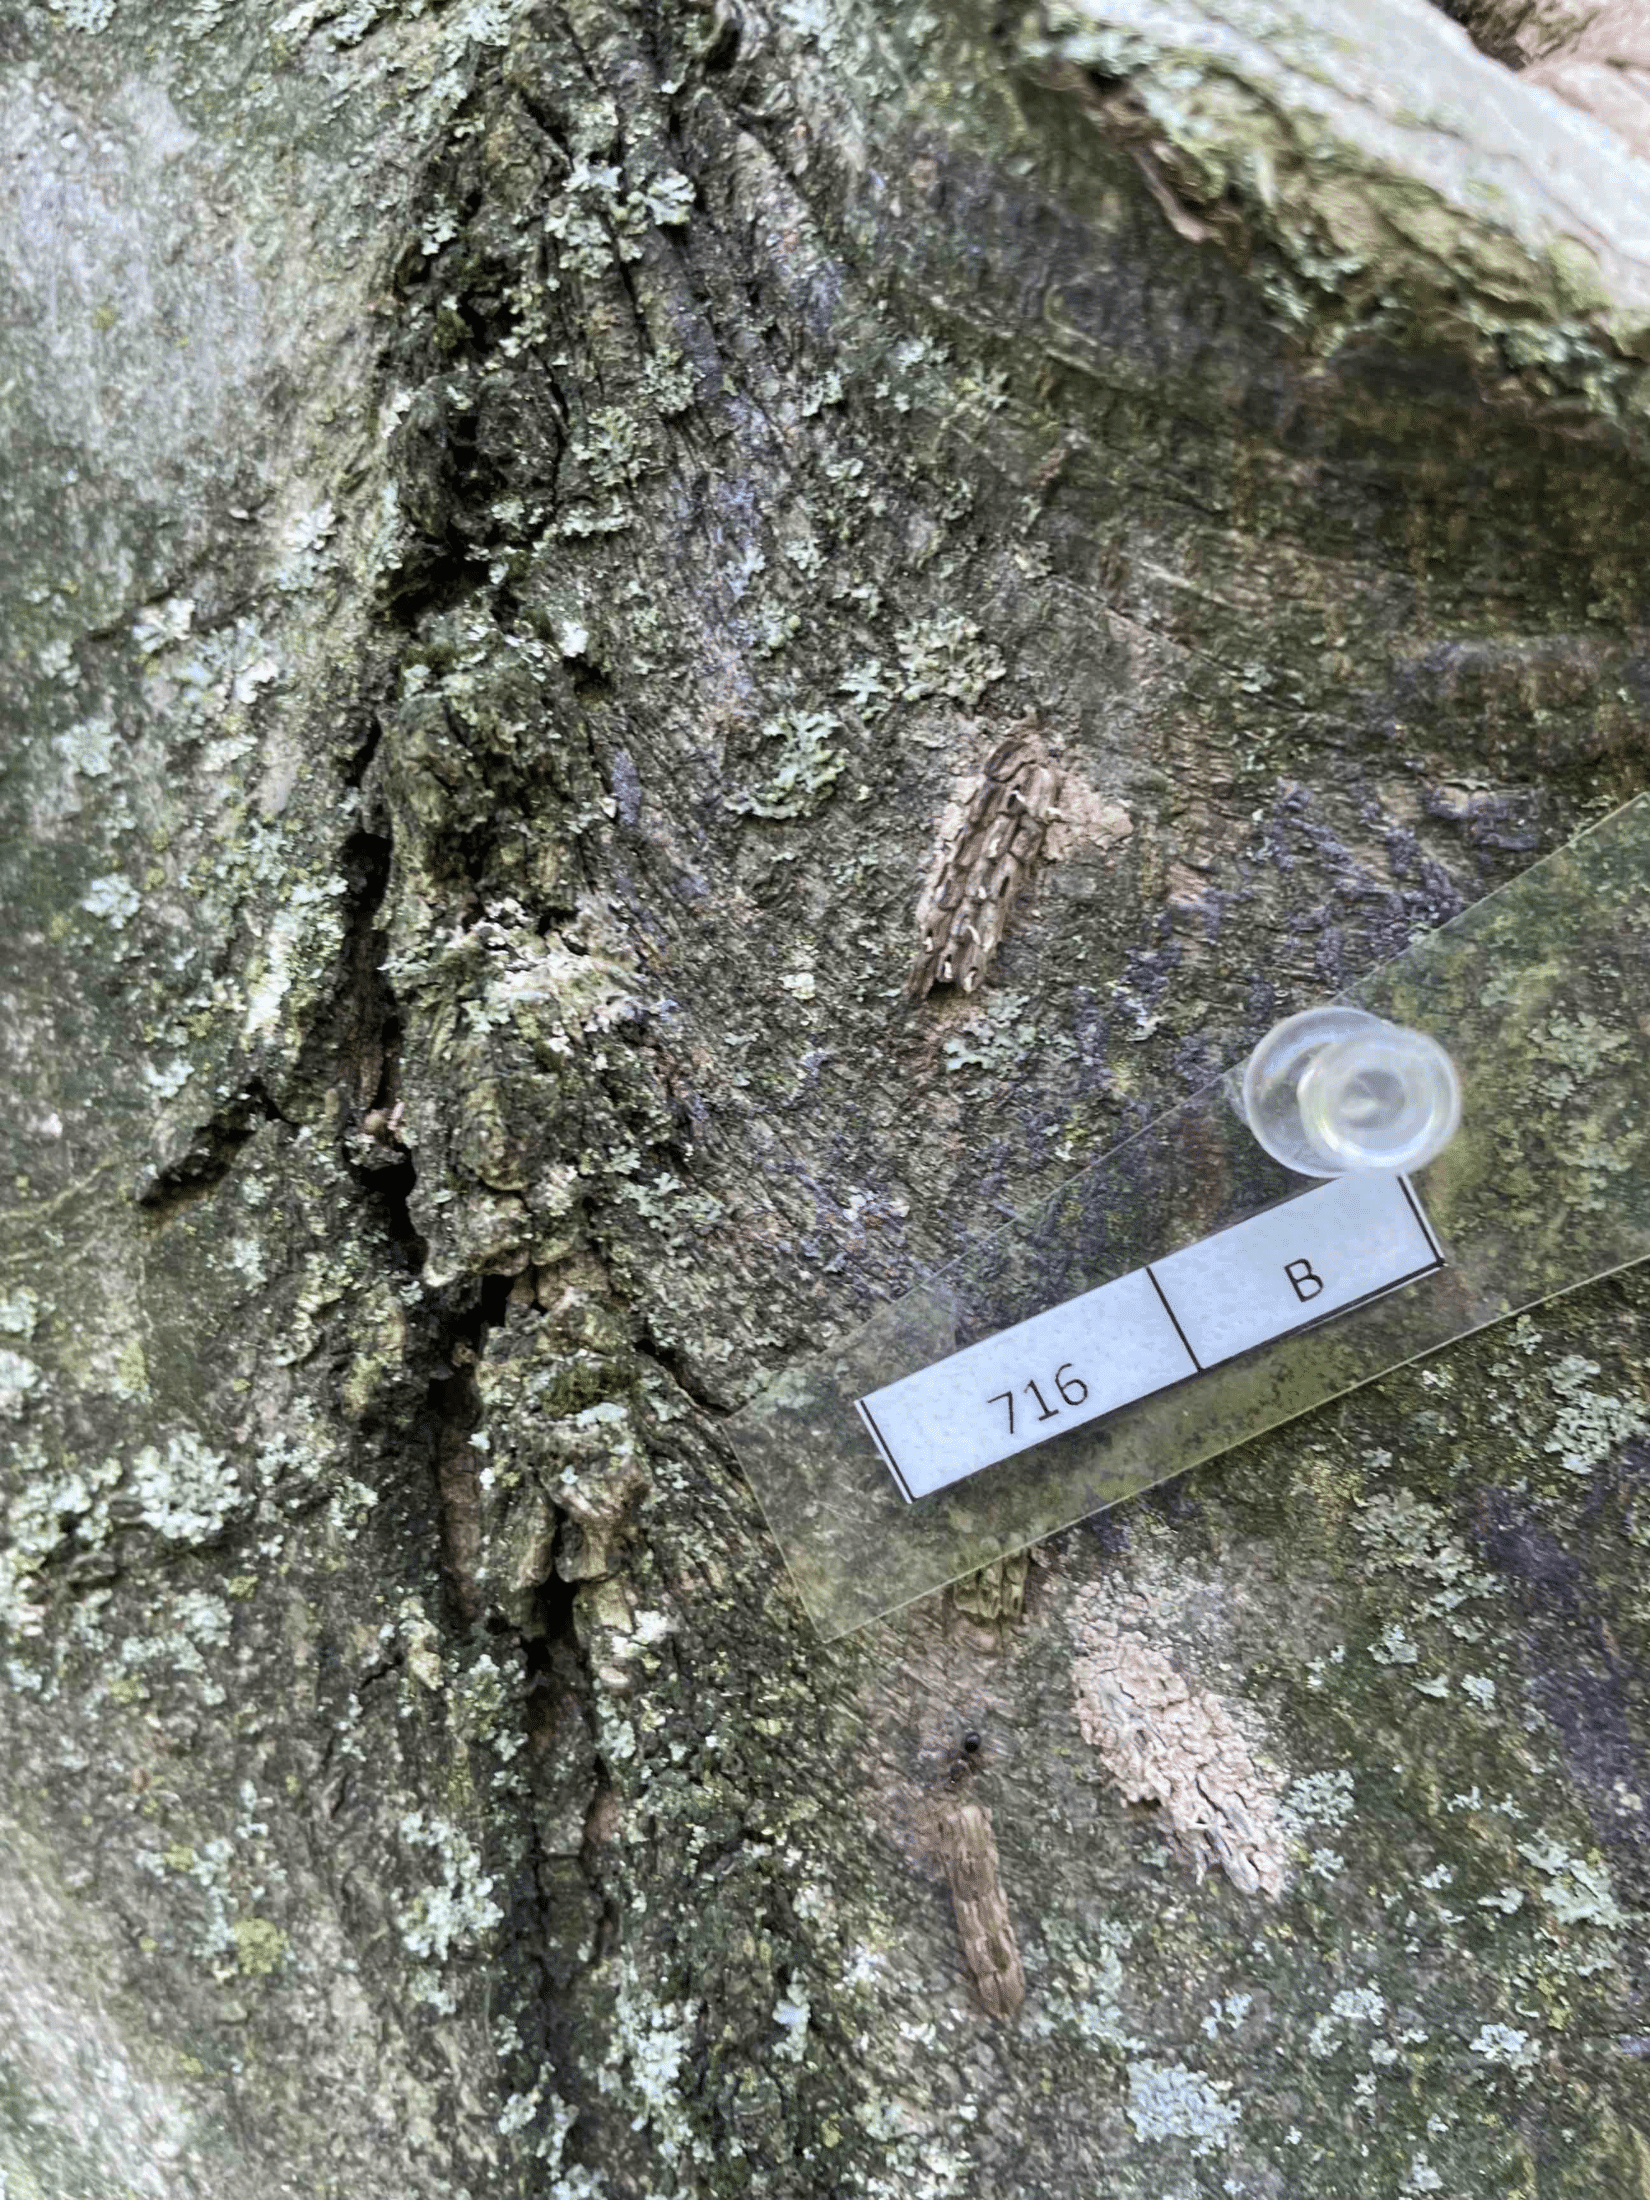egg masses: (917, 767, 1042, 1001), (931, 1807, 1036, 2020)
